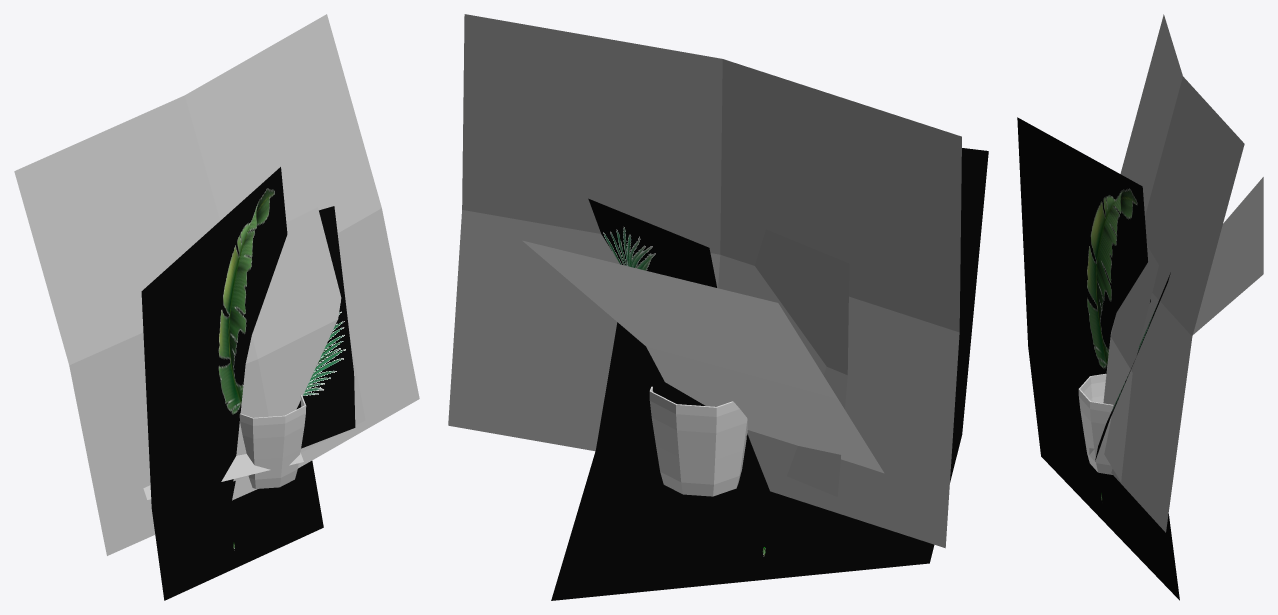
The model's file is Vases(no texture).fbx.
3 views of the same model, side by side, from view 1: azimuth 30°, elevation 25°; view 2: azimuth 150°, elevation 25°; view 3: azimuth 270°, elevation 25° (orthographic). The views are drawn at different scales.
Parts seen in each view (by area): view 1: Plane.004, Plane.005, Plane.003, Plane.006, Cube.014, Plane.007; view 2: Plane.004, Plane.005, Plane.007, Plane.003, Cube.014, Plane.006; view 3: Plane.005, Plane.004, Plane.007, Plane.003, Cube.014, Plane.006.
Part boxes in pixels (x1,y1,x2,y2): Plane.004: [14, 14, 419, 555]; Plane.005: [141, 167, 323, 600]; Plane.003: [233, 207, 365, 481]; Plane.006: [296, 206, 355, 448]; Cube.014: [239, 395, 306, 488]; Plane.007: [143, 452, 303, 499]; Plane.004: [448, 14, 961, 548]; Plane.005: [551, 148, 988, 600]; Plane.007: [522, 240, 884, 473]; Plane.003: [755, 229, 849, 496]; Cube.014: [649, 386, 747, 496]; Plane.006: [588, 198, 749, 442]; Plane.005: [1017, 117, 1179, 600]; Plane.004: [1111, 14, 1244, 532]; Plane.007: [1089, 177, 1263, 454]; Plane.003: [1103, 246, 1158, 481]; Cube.014: [1078, 373, 1113, 474]; Plane.006: [1095, 272, 1170, 461].
Size of the model in its own units: 317 by 358 by 168.
